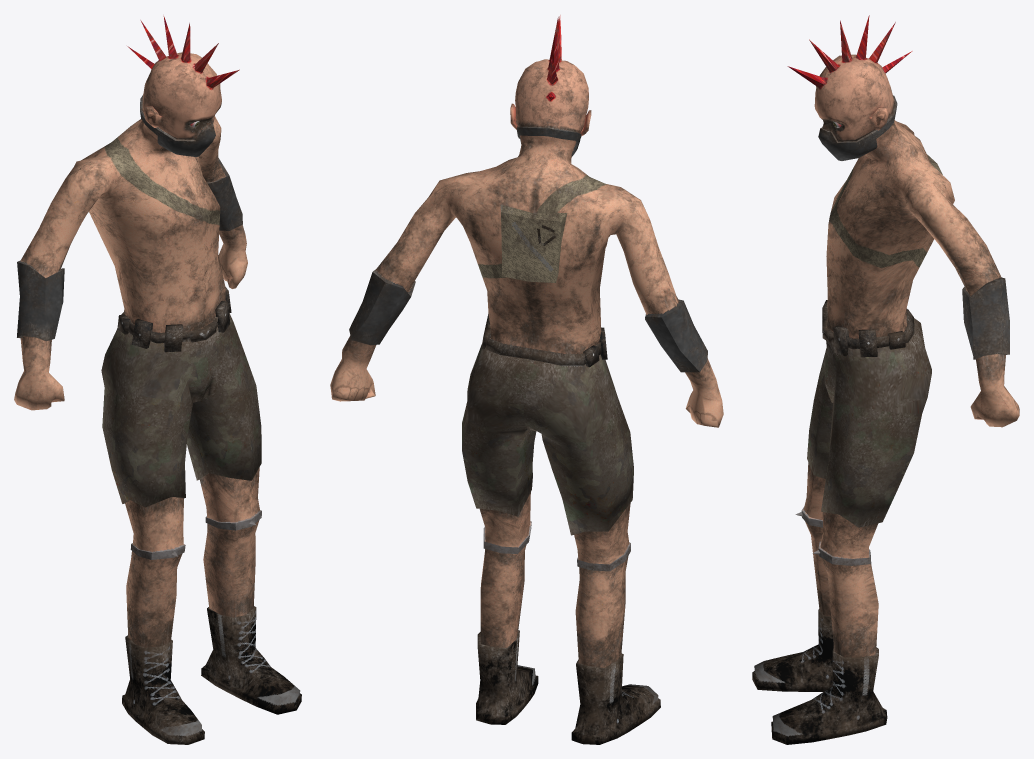
File: Anim_recibirdanyo_1_npc2.0027.obj
The picture shows the model from 3 angles, left to right: view 1: azimuth 30°, elevation 25°; view 2: azimuth 150°, elevation 25°; view 3: azimuth 270°, elevation 25°; orthographic projection. The views are drawn at different scales.
Parts seen in each view (by area): view 1: polySurface1; view 2: polySurface1; view 3: polySurface1.
Part boxes in pixels (<box>): polySurface1: <box>14,15,301,744</box>; polySurface1: <box>330,15,723,744</box>; polySurface1: <box>752,15,1019,744</box>.
Size of the model in its own units: 4.6 by 9.99 by 3.53.
2 materials, 2 textured.
